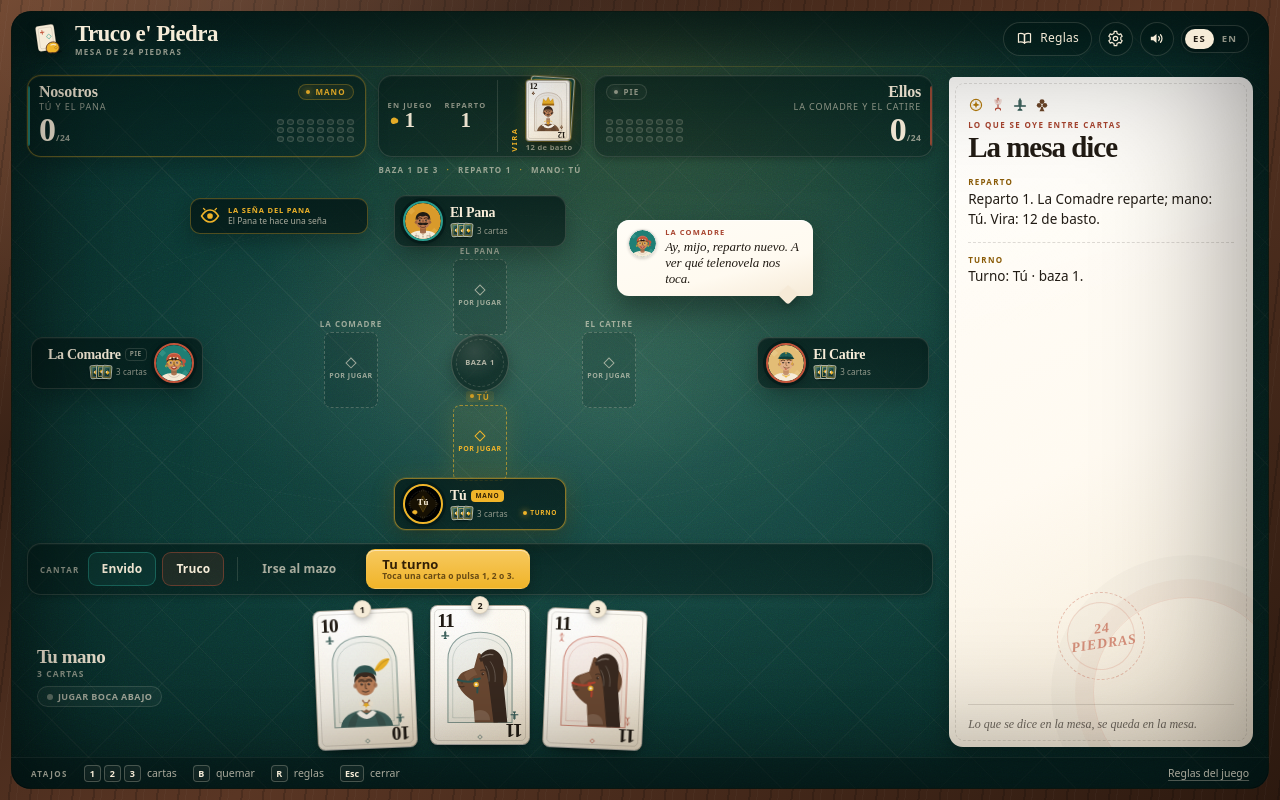
Test: the mesa shell › switches every label between Spanish and English
Expected: the heading "La mesa dice" is shown, [968, 132, 1117, 164]
Expected: the text "Tu turno" is shown, [382, 557, 438, 571]
Click the button with aria-label "ver la mesa en inglés". click: (1229, 39)
box: [1214, 29, 1245, 49]
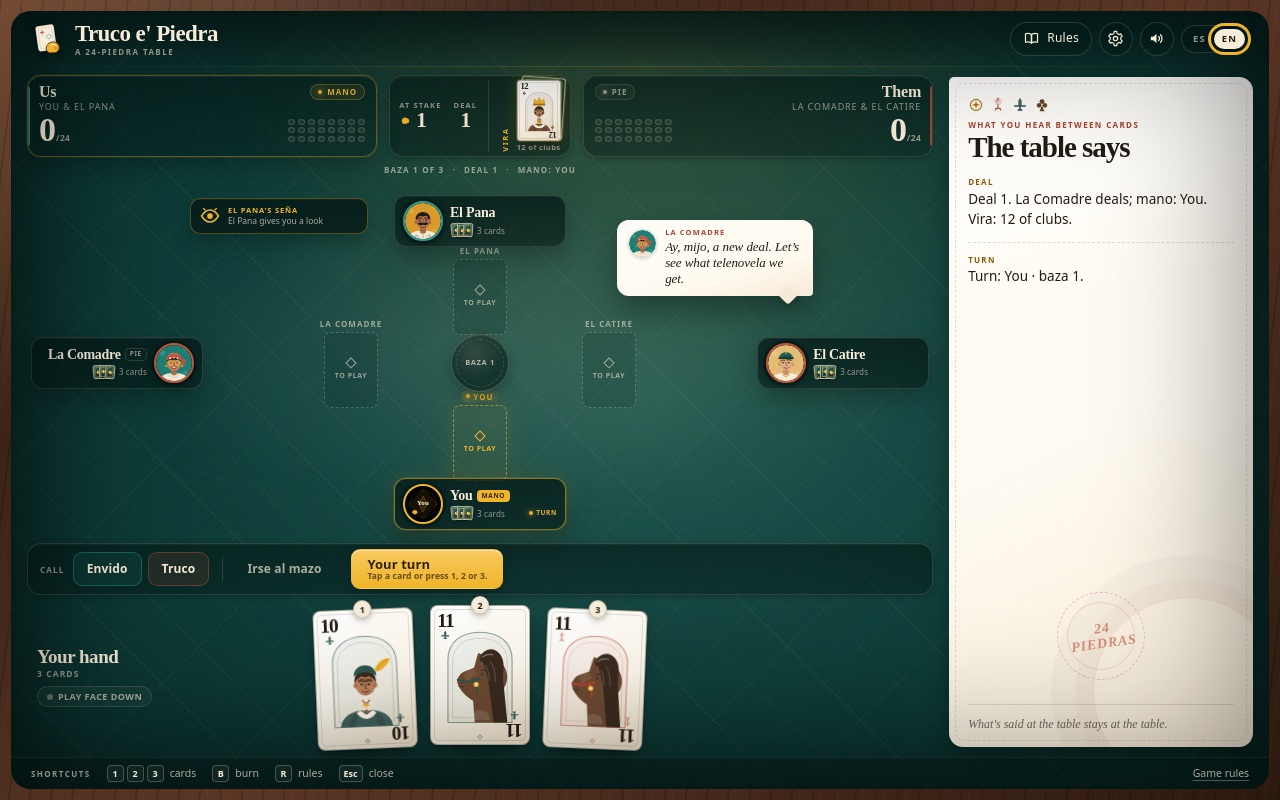
Now the heading "The table says" is shown, box [968, 132, 1130, 164]
Now the text "Your turn" is shown, box [368, 557, 430, 571]
Now the text "Baza 1 of 3" is shown, box [384, 165, 444, 174]
Click the button with aria-label "view the table in spanish". click: (1199, 39)
box: [1185, 29, 1214, 49]
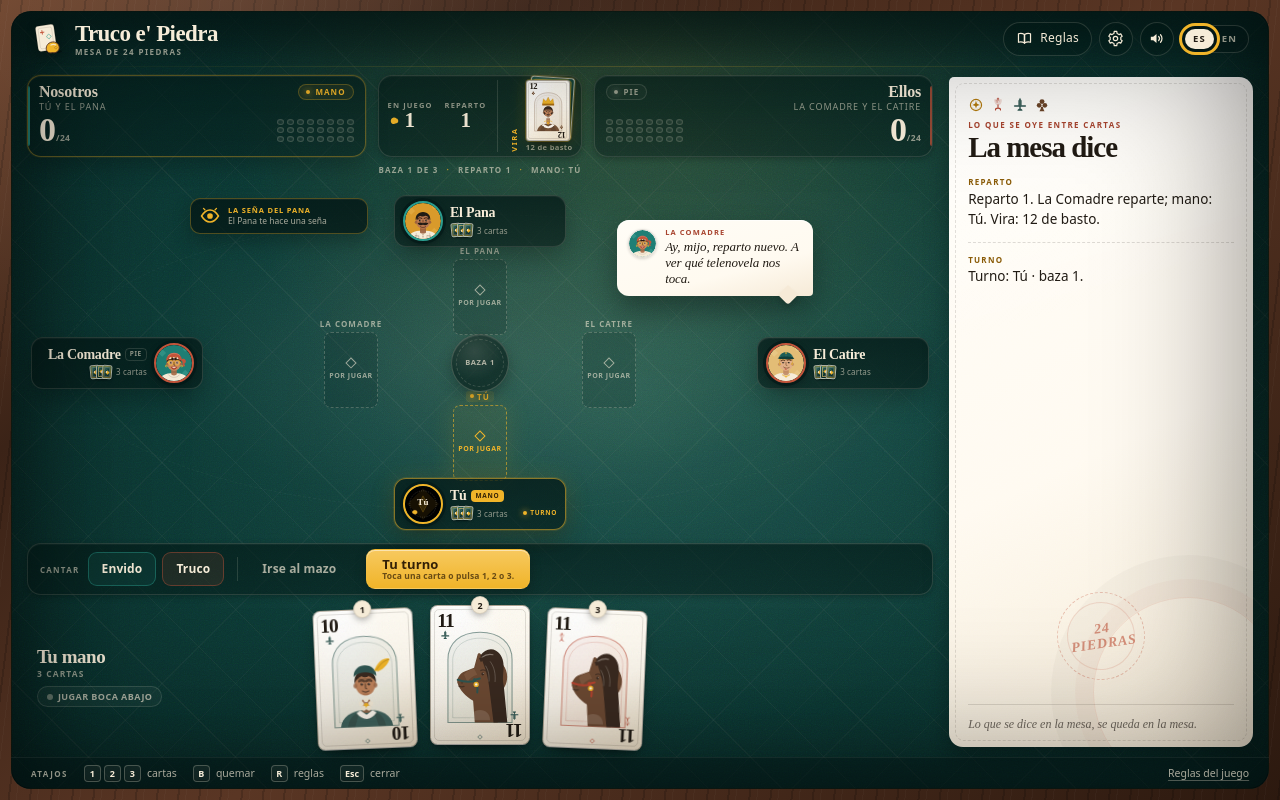
Now the heading "Tú" is shown, box [450, 488, 467, 504]
